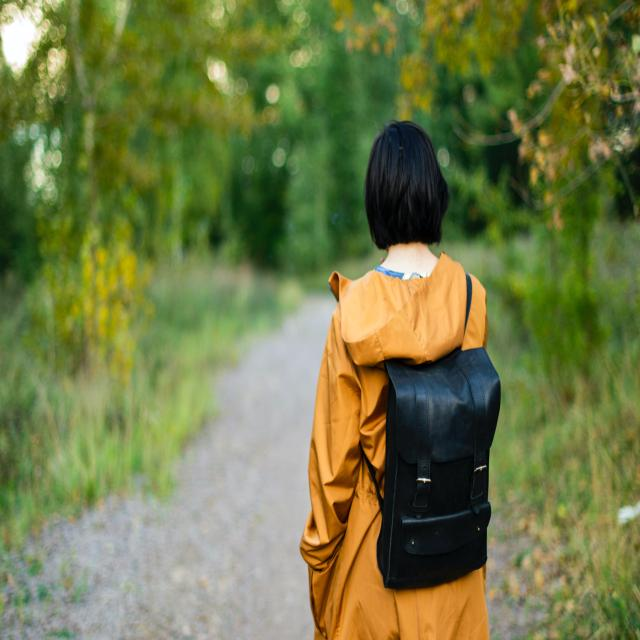backpack: (342, 264, 503, 588)
